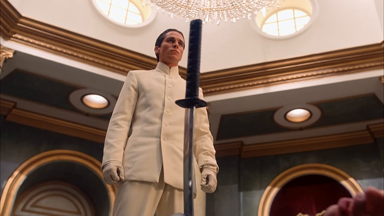bladed_weapon: (171, 16, 209, 213)
